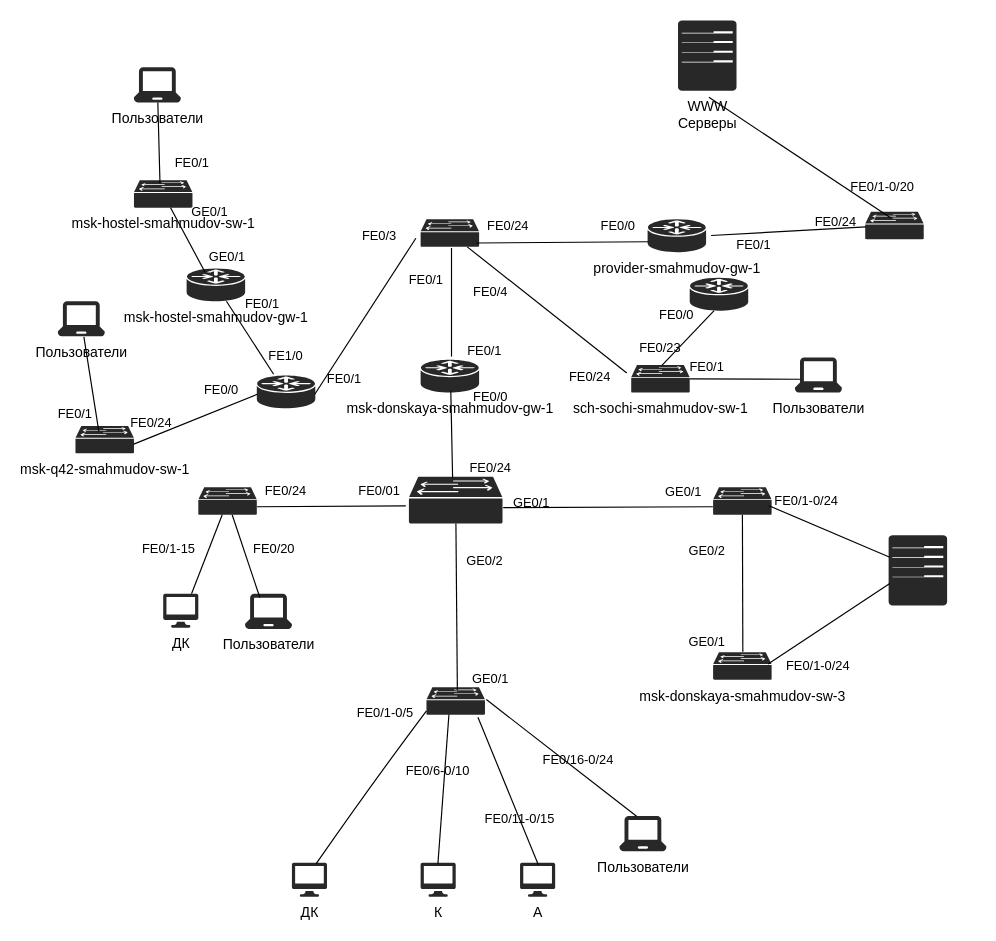
The diagram is 996 pixels wide and 941 high, and some of its shapes have lost their labels. The shapes that lost their labels are listed below. From the top down, each one's centre as x and y in pixels, then its label:
At pixel 449 232: "provider-smahmudov-sw-1".
At pixel 894 225: "internet-smahmudov-sw-1".
At pixel 718 293: "sch-sochi-smahmudov-gw-1".
At pixel 285 391: "msk-q42-smahmudov-gw-1".
At pixel 227 500: "msk-pavlovskaya-smahmudov-sw-1".
At pixel 455 499: "msk-donskaya-smahmudov-sw-1".
At pixel 742 500: "msk-donskaya-smahmudov-sw-2".
At pixel 917 570: "Серверы".
At pixel 455 700: "msk-donskaya-smahmudov-sw-4".
